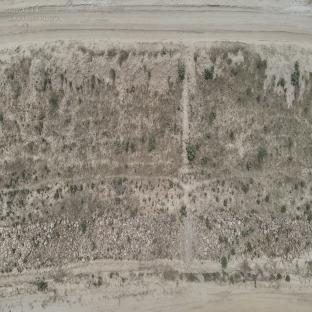rock_toe: (1, 215, 181, 273), (193, 215, 312, 258)
slope_drain: (181, 51, 193, 258)
toe_drain: (0, 259, 312, 288)
